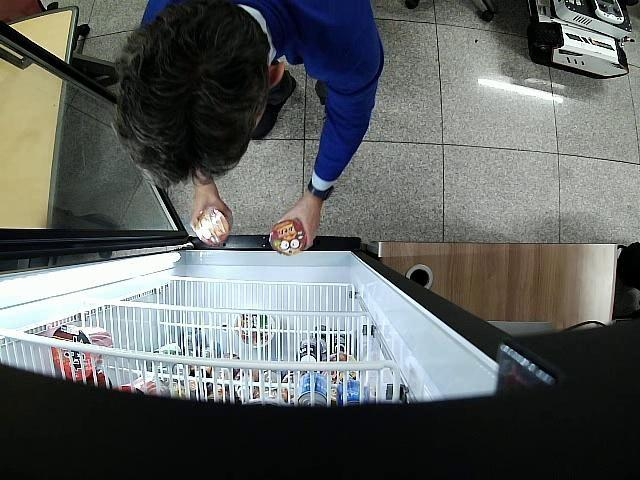06_nuguri_S: (195, 207, 231, 246), (269, 220, 306, 256)
